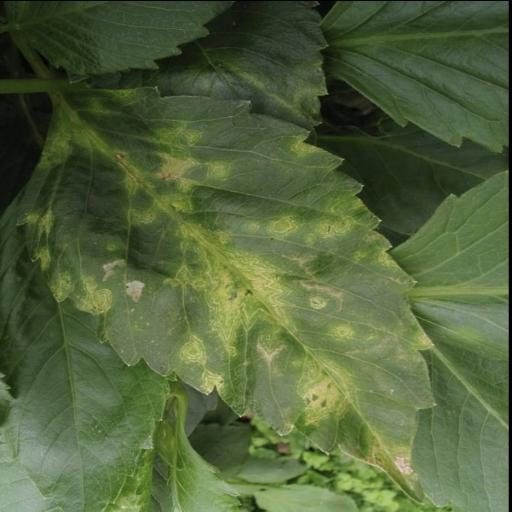disease_tomato: (18, 82, 440, 502)
